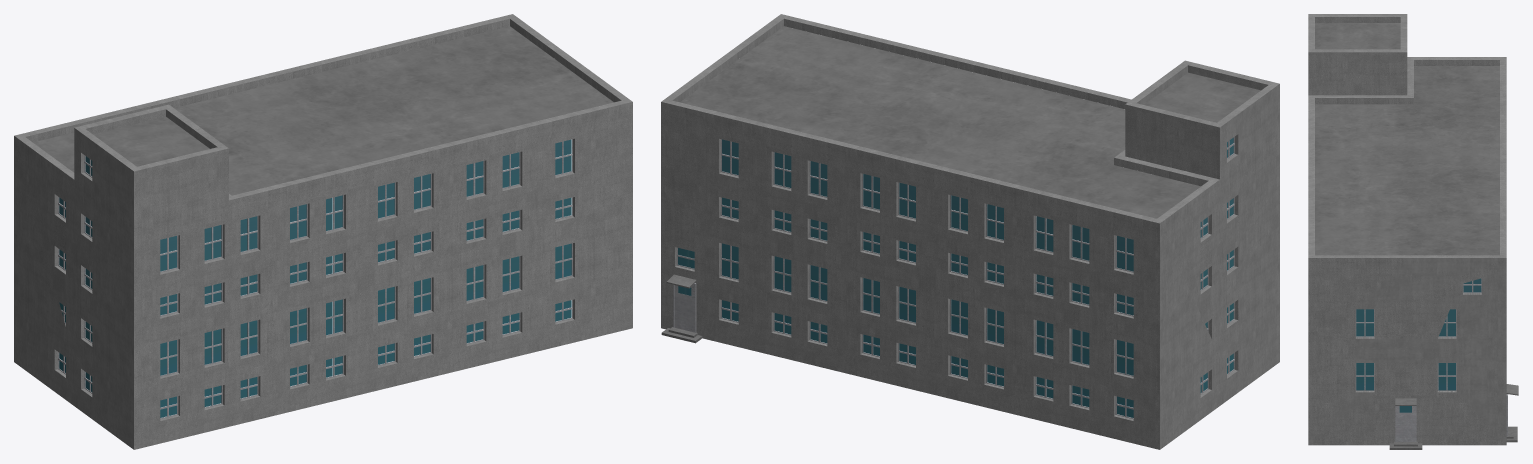
The model's file is 选矿电气楼.glb.
The picture shows the model from 3 angles, left to right: view 1: azimuth 30°, elevation 25°; view 2: azimuth 150°, elevation 25°; view 3: azimuth 270°, elevation 25°; orthographic projection. The views are drawn at different scales.
Visible parts, largest first — view 1: 选矿电气楼00, 选矿电气楼03, 选矿电气楼02, 选矿电气楼01; view 2: 选矿电气楼00, 选矿电气楼03, 选矿电气楼02, 选矿电气楼01; view 3: 选矿电气楼00, 选矿电气楼03, 选矿电气楼02, 选矿电气楼01.
Boxes of the visible parts, x1,y1,x2,y2 form: 选矿电气楼00: (14,14,632,449); 选矿电气楼03: (33,26,613,195); 选矿电气楼02: (59,139,571,417); 选矿电气楼01: (58,139,572,418); 选矿电气楼00: (661,14,1279,449); 选矿电气楼03: (661,26,1260,343); 选矿电气楼02: (678,137,1233,417); 选矿电气楼01: (673,136,1234,418); 选矿电气楼00: (1308,14,1506,445); 选矿电气楼03: (1315,23,1518,449); 选矿电气楼02: (1356,278,1481,412); 选矿电气楼01: (1355,278,1507,442).
Bounding box in the file's own units: 36.16 × 18.8 × 15.59.
4 materials, 4 textured.
